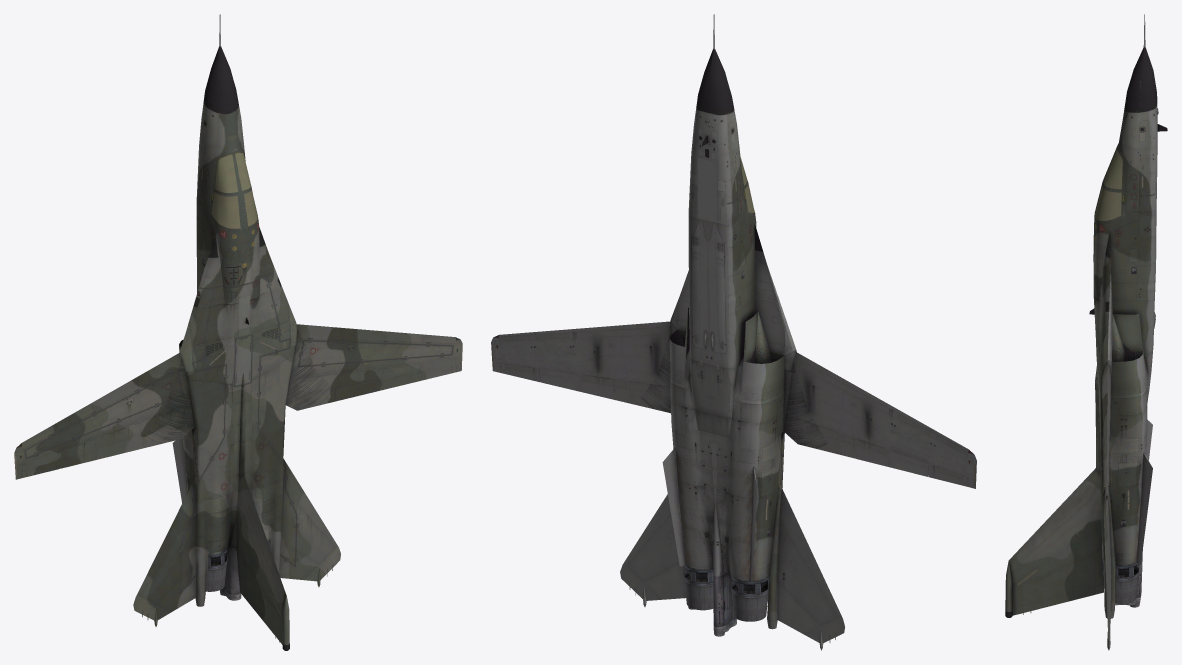
The model's file is F-111F_Aardvark.obj.
3 views of the same model, side by side, from view 1: azimuth 30°, elevation 25°; view 2: azimuth 150°, elevation 25°; view 3: azimuth 270°, elevation 25° (orthographic). The views are drawn at different scales.
Parts seen in each view (by area): view 1: LOD0, WingL01, WingR01, ElevatorL01, ElevatorR01, RudderL01, Glass01, Glass_Canopy01, EngineL01, VoletL04; view 2: LOD0, WingL01, WingR01, ElevatorL01, ElevatorR01, EngineL01, EngineR01, FlapL03, FlapR02, FlapL02, FlapR03; view 3: LOD0, RudderL01, EngineR01, ElevatorR01, Glass_Canopy02, Glass01, WingR01, VoletR05, VoletR04.
Part boxes in pixels (<box>): LOD0: <box>172,14,296,650</box>; WingL01: <box>14,366,194,479</box>; WingR01: <box>286,337,462,410</box>; ElevatorL01: <box>133,479,196,626</box>; ElevatorR01: <box>279,458,340,587</box>; RudderL01: <box>236,549,281,643</box>; Glass01: <box>215,152,250,192</box>; Glass_Canopy01: <box>211,192,240,228</box>; EngineL01: <box>206,549,227,591</box>; VoletL04: <box>137,353,183,388</box>; LOD0: <box>662,14,791,636</box>; WingL01: <box>783,358,976,488</box>; WingR01: <box>491,327,670,387</box>; ElevatorL01: <box>777,488,844,650</box>; ElevatorR01: <box>620,494,685,607</box>; EngineL01: <box>731,576,769,621</box>; EngineR01: <box>683,566,713,610</box>; FlapL03: <box>795,418,838,454</box>; FlapR02: <box>578,375,631,403</box>; FlapL02: <box>838,433,889,466</box>; FlapR03: <box>628,382,670,413</box>; LOD0: <box>1005,14,1167,618</box>; RudderL01: <box>1018,550,1103,614</box>; EngineR01: <box>1102,560,1139,603</box>; ElevatorR01: <box>1103,491,1111,650</box>; Glass_Canopy02: <box>1094,186,1121,220</box>; Glass01: <box>1103,148,1122,189</box>; WingR01: <box>1102,367,1110,532</box>; VoletR05: <box>1099,331,1111,379</box>; VoletR04: <box>1103,363,1109,407</box>.
Bounding box in the file's own units: 19.24 × 24.11 × 5.88.
Materials: 4 (4 with a texture image).
